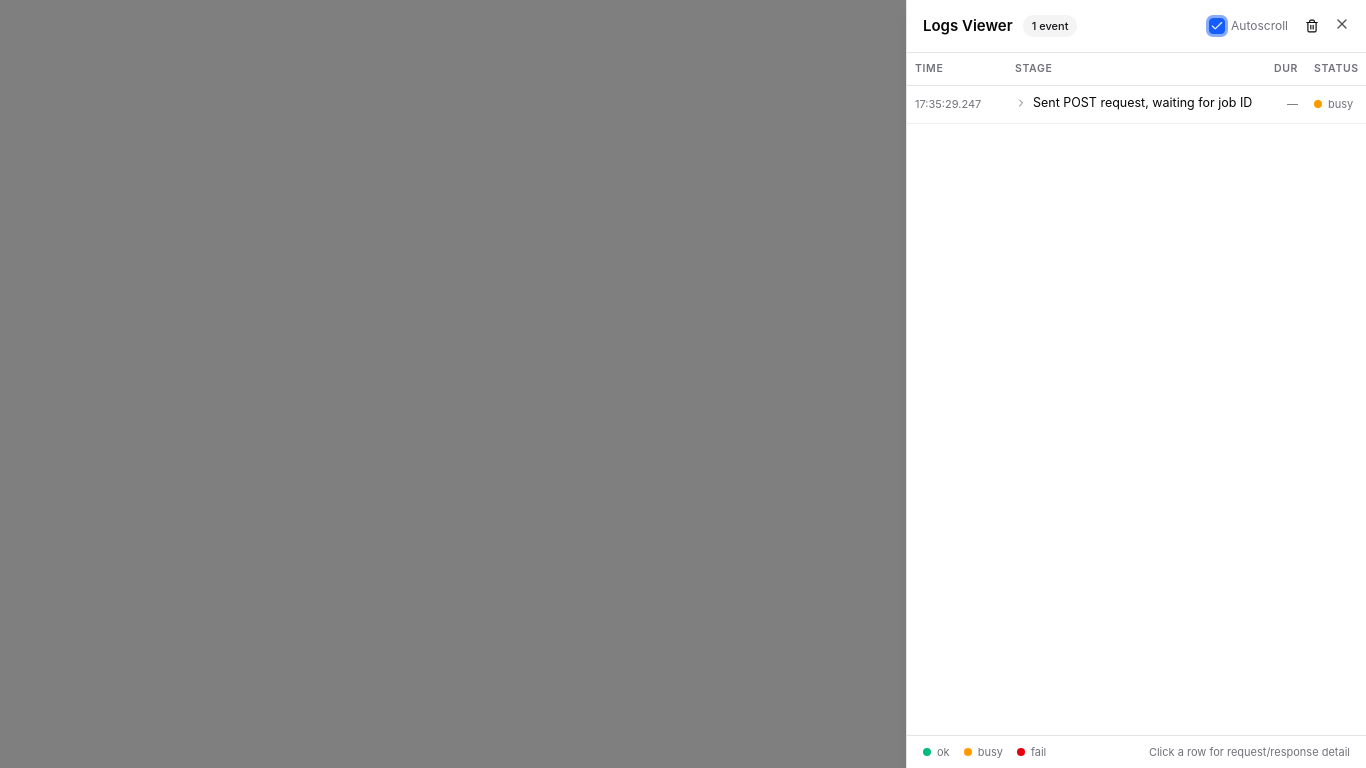
Test: LogsViewer › expands a verbose row on click and reveals the request detail
Click the text "Sent POST request, waiting for job ID" at [1143, 103], box 1033,94 -> 1252,113
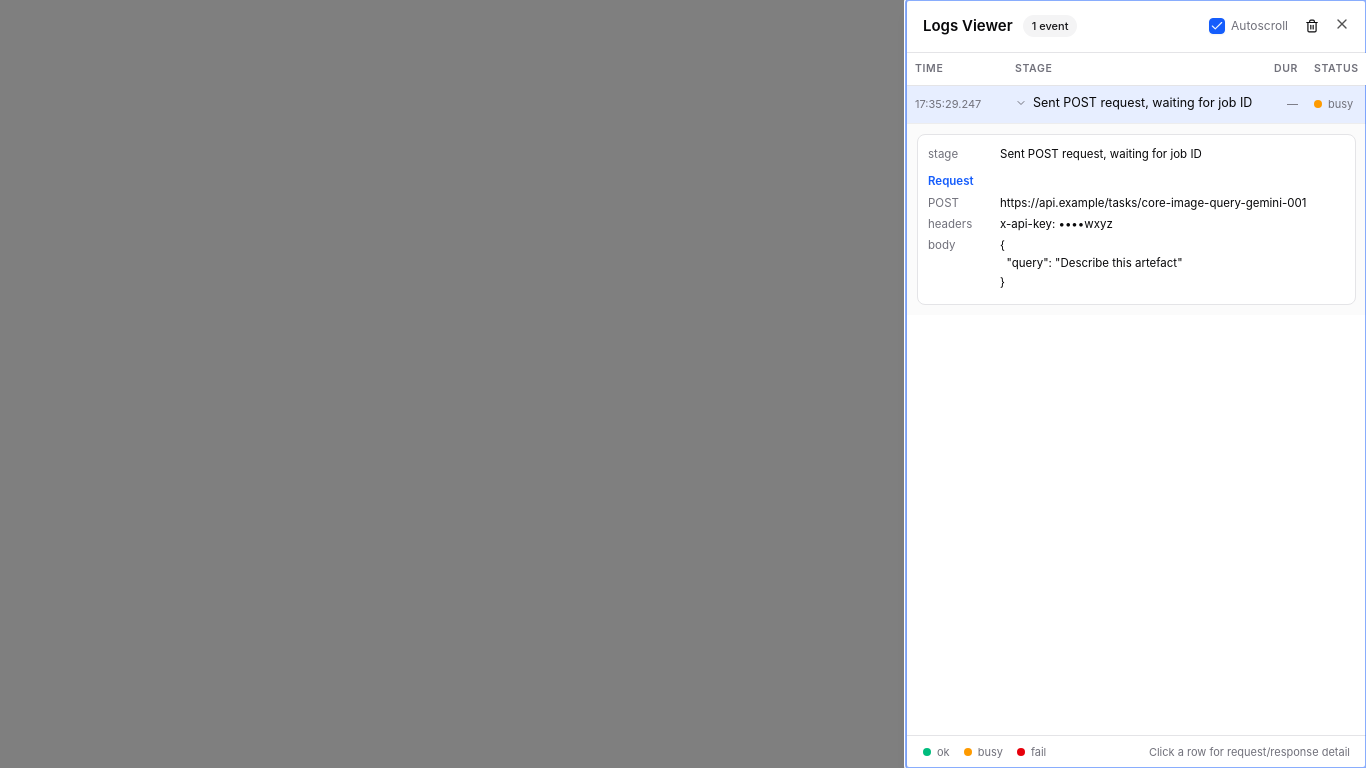
Result: the text "Request" is shown at 928,174 -> 974,188
Result: the text "https://api.example/tasks/core-image-query-gemini-001" is shown at 1000,194 -> 1306,213
